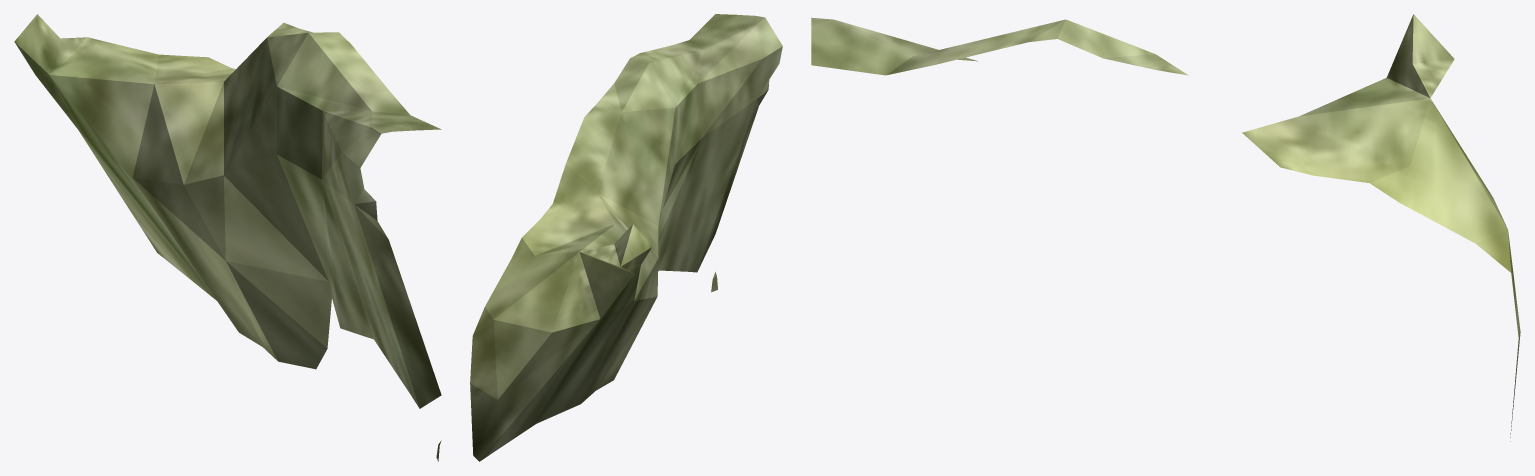
3 renders of one model, left to right at view 1: azimuth 30°, elevation 25°; view 2: azimuth 150°, elevation 25°; view 3: azimuth 270°, elevation 25°, orthographic. The views are drawn at different scales.
Size of the model in its own units: 0.4319 by 0.8389 by 1.26.
Materials: 1 (1 with a texture image).
